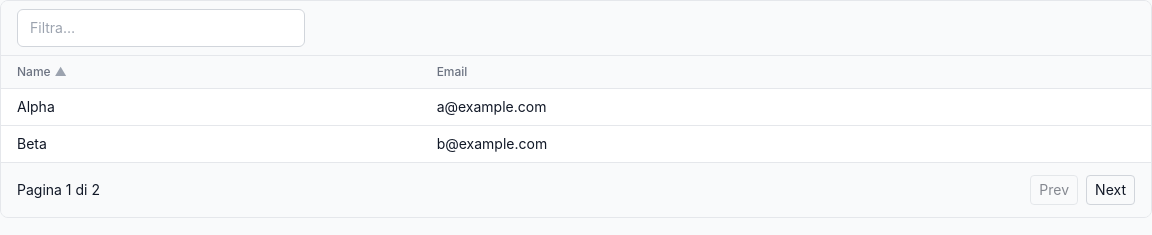
DataTable › sorts by clicking sortable header
Check: the cell "Alpha" is shown, box [1,88,421,126]
# Click header to toggle desc
Click the button "Name ▲": [42, 72] box [17,64,67,80]
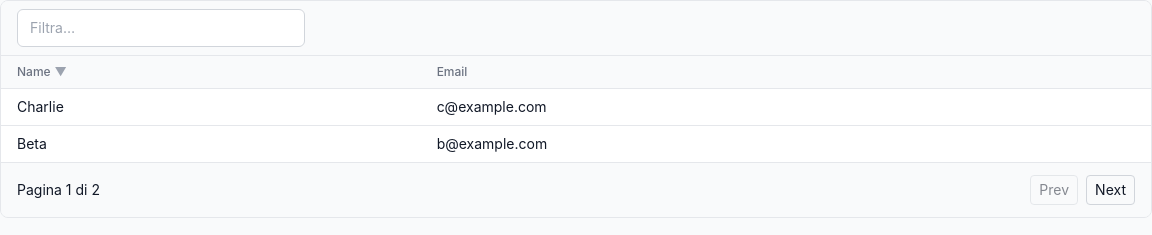
Check: the cell "Charlie" is shown, box [1,88,421,126]
